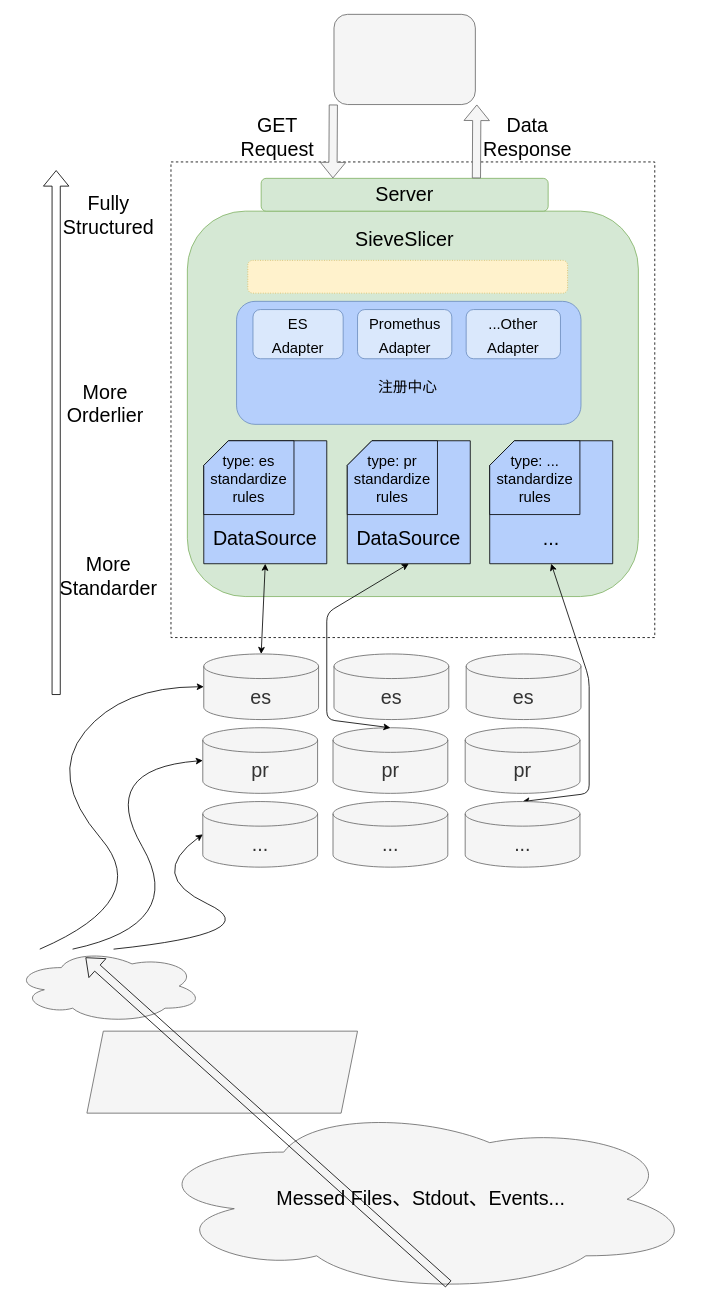
This 711x1308 diagram has some shape labels left out. The box of each missing label's shape, as (x1, y1, x2, y2) in pixels:
Filter（清除冗余）: (247, 260, 568, 293)
Messed Logs: (13, 948, 203, 1023)
Messed logstash、 otherCollectors: (86, 1030, 358, 1113)
用户: (333, 14, 475, 105)
